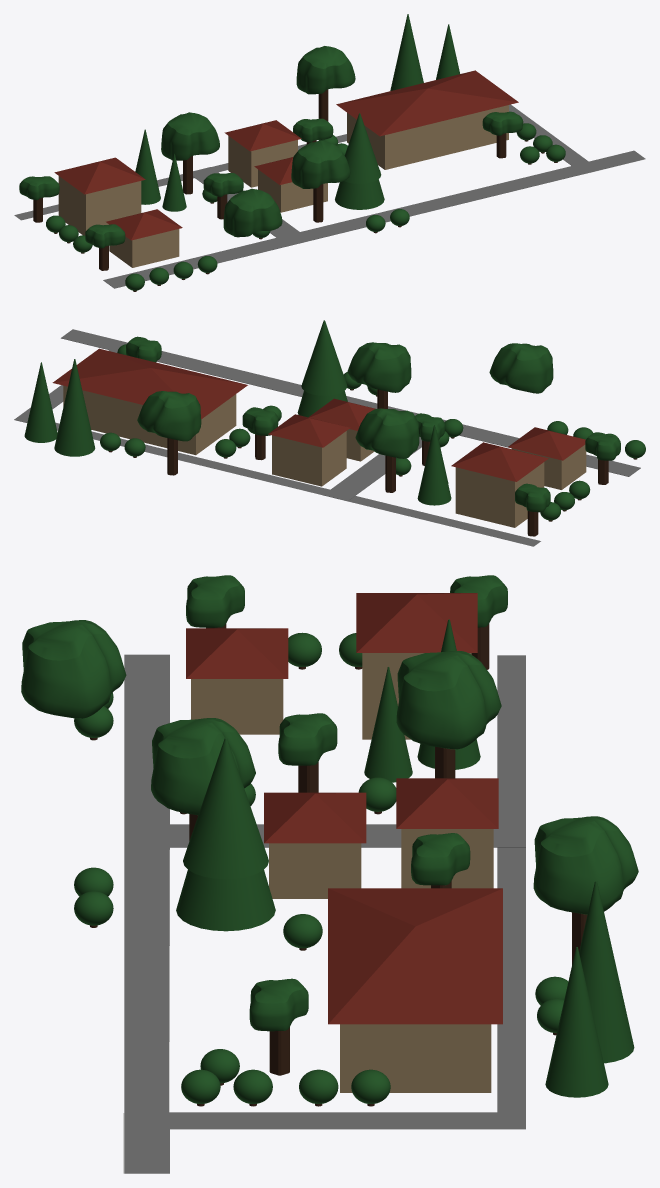
Rendered from city1poly.FBX.
3 views of the same model, one above another, from view 1: azimuth 30°, elevation 25°; view 2: azimuth 150°, elevation 25°; view 3: azimuth 270°, elevation 25° (orthographic). The views are drawn at different scales.
Parts seen in each view (by area): view 1: Line002, Pyramid005, Box002, Box007, Line004, Line010, Line008, Line003, Pyramid008, Box009, Box003, Cylinder006 (+15 smaller); view 2: Pyramid005, Line002, Box002, Box007, Rectangle004, Line010, Box003, Line004, Line008, Line003, Cylinder005, Pyramid008 (+15 smaller); view 3: Line002, Pyramid005, Rectangle004, Box002, Line010, Line003, Line008, Pyramid008, Cylinder006, Line004, Pyramid001, Pyramid002 (+26 smaller).
Part boxes in pixels (x1,y1,x2,y2): Line002: (103,104,645,288); Pyramid005: (336,70,518,136); Box002: (347,105,508,169); Box007: (58,176,141,235); Line004: (291,140,350,222); Line010: (296,46,355,121); Line008: (223,188,282,237); Line003: (161,112,219,160); Pyramid008: (54,157,145,194); Box009: (109,229,179,267); Box003: (228,136,297,187); Cylinder006: (344,113,381,183); Pyramid005: (52,348,247,418); Line002: (14,329,640,501); Box002: (63,385,236,455); Box007: (455,462,544,527); Rectangle004: (55,422,540,546); Line010: (137,391,201,475); Box003: (272,431,346,486); Line004: (347,342,411,408); Line008: (489,343,553,393); Line003: (355,408,419,458); Cylinder005: (54,359,95,456); Pyramid008: (451,442,548,481); Line002: (124,654,525,1173); Pyramid005: (328,888,502,1024); Rectangle004: (497,655,525,1112); Box002: (340,1024,491,1092); Line010: (533,816,638,964); Line003: (396,651,501,749); Line008: (21,620,126,718); Pyramid008: (356,593,477,652); Cylinder006: (183,738,268,879); Line004: (151,718,255,840); Pyramid001: (264,792,366,843); Pyramid002: (396,778,498,828).
Bounding box in the file's own units: 20724 × 3364 × 10394.
